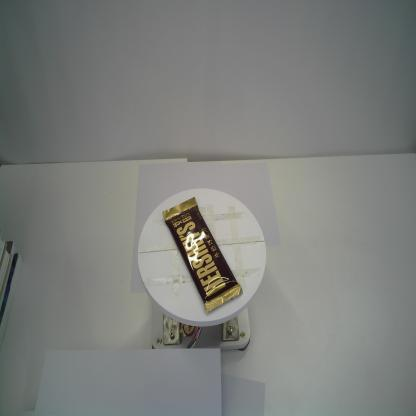Chocolate: (161, 196, 244, 315)
